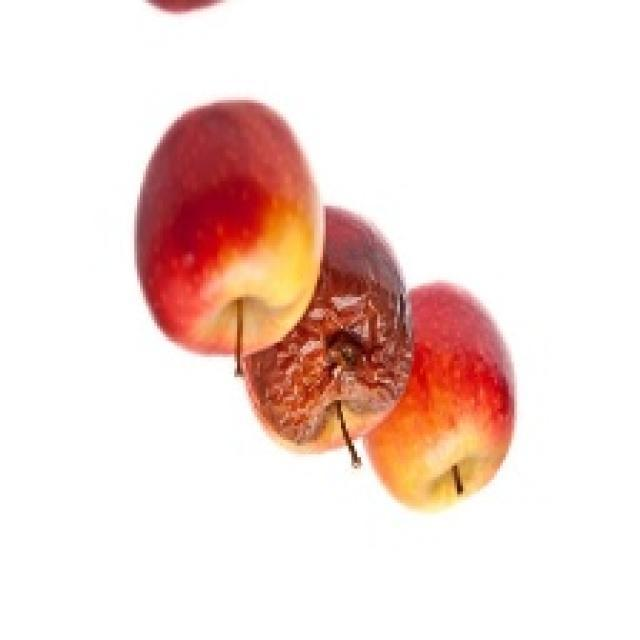apple: (137, 103, 321, 355), (244, 209, 413, 463), (365, 283, 513, 509)
